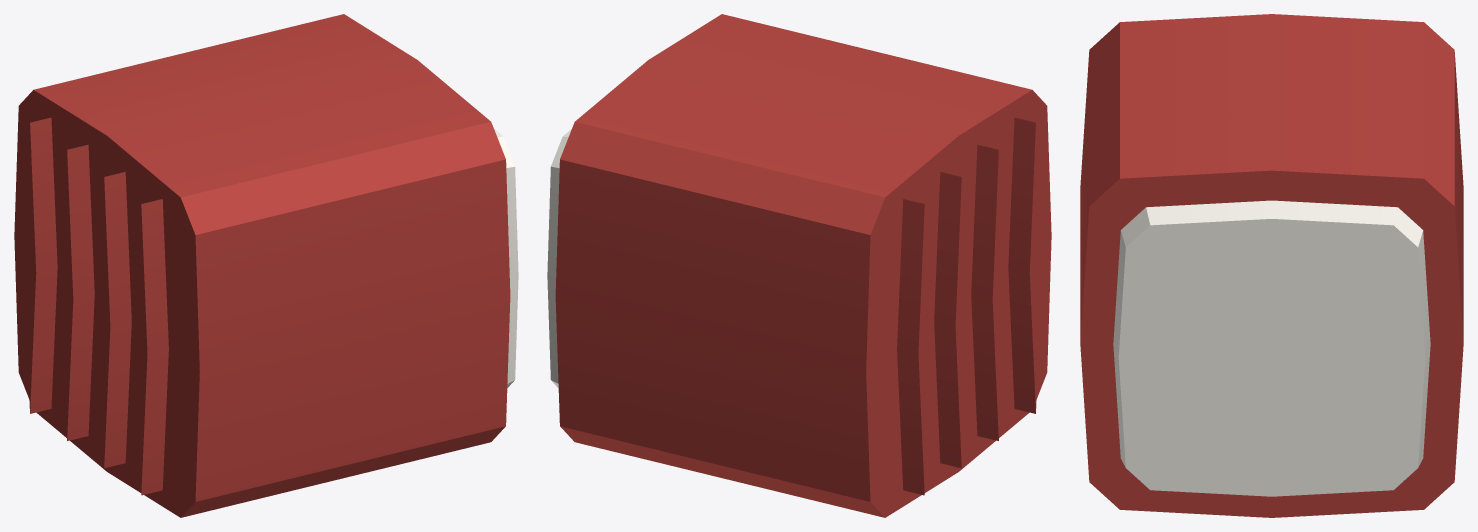
3 views of the same model, side by side, from view 1: azimuth 30°, elevation 25°; view 2: azimuth 150°, elevation 25°; view 3: azimuth 270°, elevation 25° (orthographic). The views are drawn at different scales.
Visible parts, largest first — view 1: cube; view 2: cube; view 3: cube.
Boxes of the visible parts, left/top/right/bottom form: cube: left=14, top=14, right=518, bottom=517; cube: left=547, top=14, right=1051, bottom=517; cube: left=1080, top=14, right=1463, bottom=517.
Bounding box in the file's own units: 0.067 × 0.06 × 0.06.
